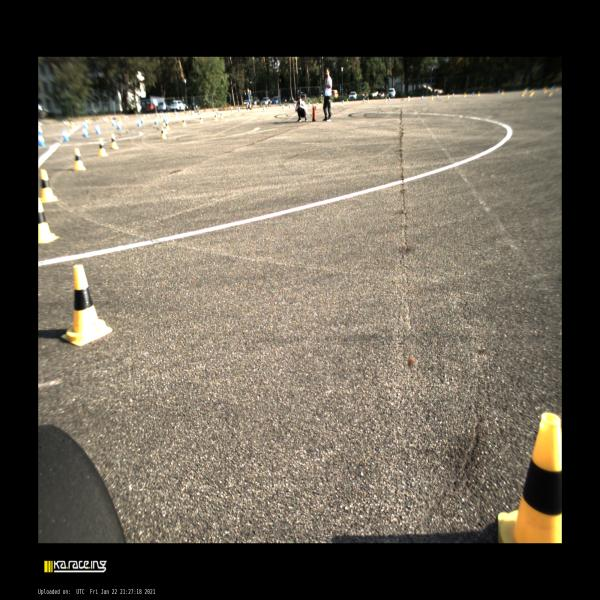blue_cone: (39, 128, 46, 146), (63, 128, 69, 142), (83, 126, 89, 137), (96, 124, 101, 134), (117, 121, 122, 130), (138, 119, 142, 127), (155, 117, 159, 125), (142, 118, 144, 123), (238, 107, 240, 112), (198, 110, 200, 115), (263, 106, 265, 110), (282, 105, 284, 109), (289, 104, 291, 108), (294, 103, 296, 107), (436, 94, 438, 98), (342, 100, 344, 103), (362, 99, 364, 102), (422, 96, 424, 99), (309, 102, 310, 106), (389, 97, 390, 101), (216, 110, 217, 113), (453, 94, 454, 97)
yellow_cone: (498, 412, 562, 542), (62, 264, 112, 346), (38, 198, 59, 244), (40, 169, 57, 202), (72, 148, 86, 170), (98, 138, 108, 156), (111, 134, 119, 150), (161, 126, 167, 139), (163, 123, 167, 134), (166, 121, 170, 130), (199, 116, 204, 123), (182, 119, 186, 126), (214, 114, 218, 121), (220, 112, 224, 118), (217, 111, 220, 117), (230, 108, 233, 113), (266, 106, 269, 111), (346, 99, 349, 104), (191, 113, 194, 118), (316, 102, 318, 108), (200, 111, 203, 115), (367, 98, 369, 103), (385, 97, 387, 102), (431, 95, 433, 100), (175, 113, 177, 118), (447, 94, 449, 98), (464, 93, 466, 97), (322, 102, 323, 107), (408, 96, 409, 101)
